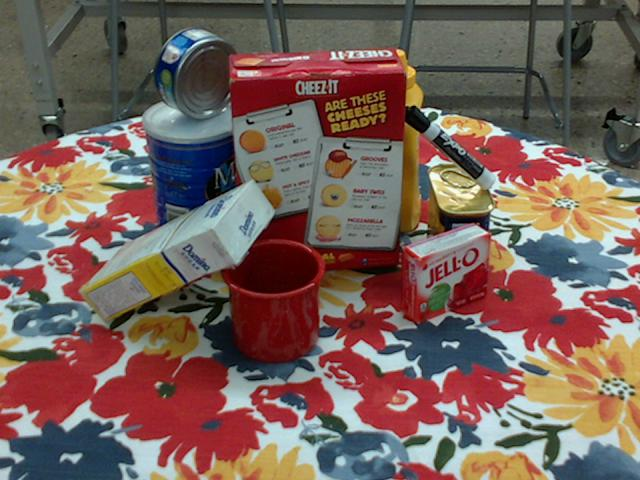cracker_box: (226, 49, 407, 275)
gelatin_box: (401, 222, 491, 324)
large_marker: (402, 106, 496, 189)
master_chef_can: (143, 96, 247, 258)
mug: (220, 237, 326, 362)
mustard_bottle: (368, 50, 423, 233)
potted_meat_can: (426, 164, 495, 281)
sugar_box: (76, 180, 274, 323)
tomato_soup_can: (287, 106, 348, 211)
tuna_fish_can: (153, 27, 239, 118)
